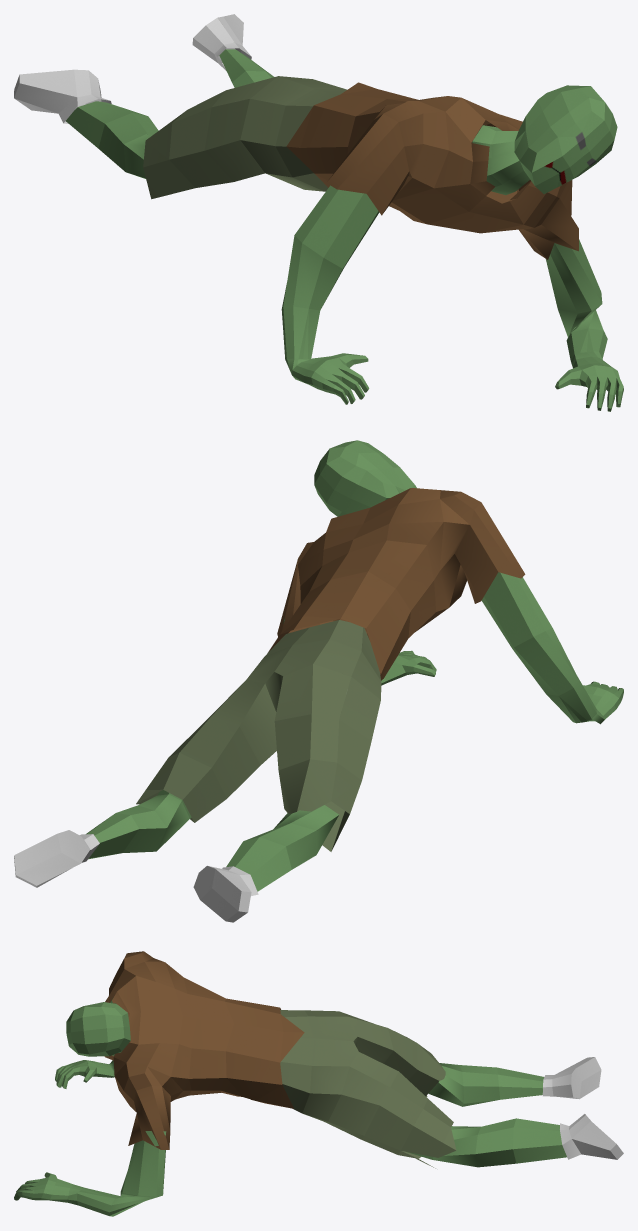
The model's file is ZombieCrawl(135).obj.
3 renders of one model, top to bottom at view 1: azimuth 30°, elevation 25°; view 2: azimuth 150°, elevation 25°; view 3: azimuth 270°, elevation 25°, orthographic. The views are drawn at different scales.
Visible parts, largest first — view 1: Object001; view 2: Object001; view 3: Object001.
Part boxes in pixels (left/top/right/bottom): Object001: left=14, top=14, right=623, bottom=411; Object001: left=14, top=440, right=623, bottom=922; Object001: left=14, top=951, right=623, bottom=1216.
Size of the model in its own units: 28.55 by 23.1 by 62.12.
